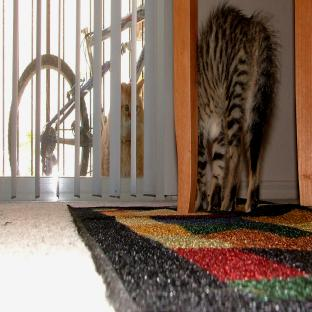Animal: (195, 3, 280, 211)
